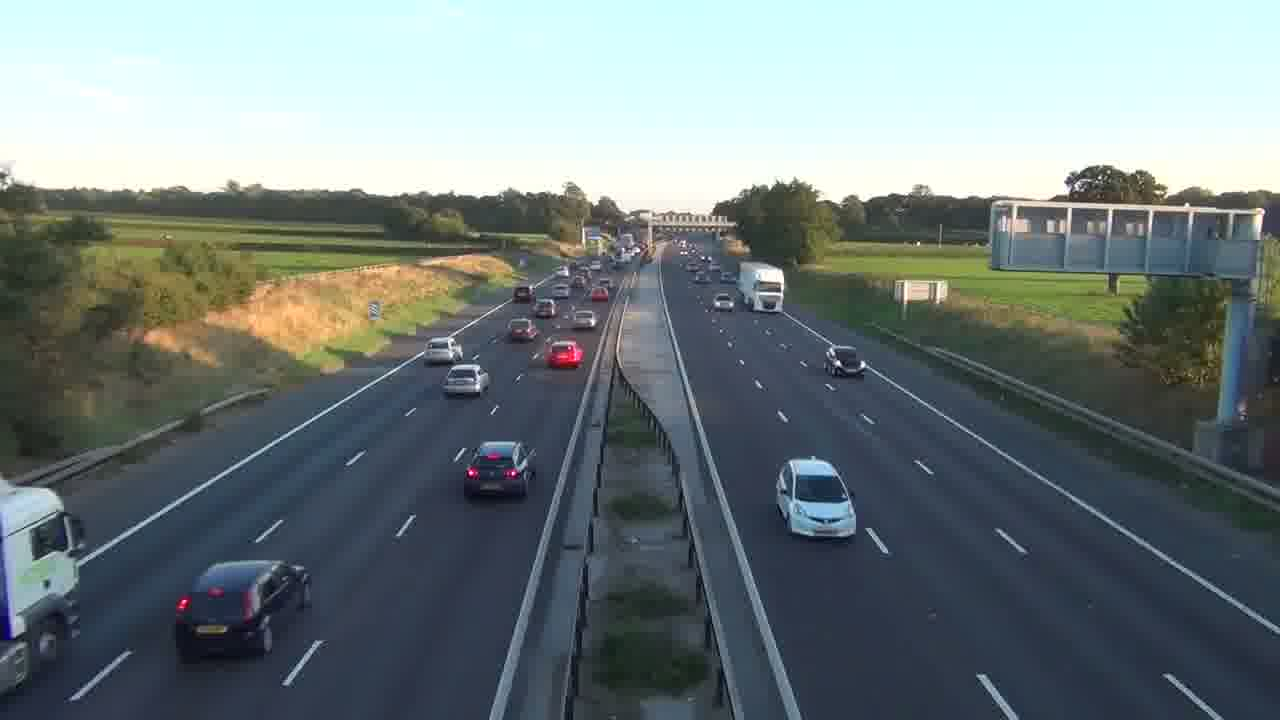car: (174, 559, 313, 662), (775, 457, 858, 540), (462, 440, 538, 498), (441, 363, 489, 397), (823, 343, 865, 377), (544, 338, 584, 369), (505, 316, 538, 342), (571, 309, 598, 329)
truck: (0, 476, 86, 696), (737, 260, 785, 312)
